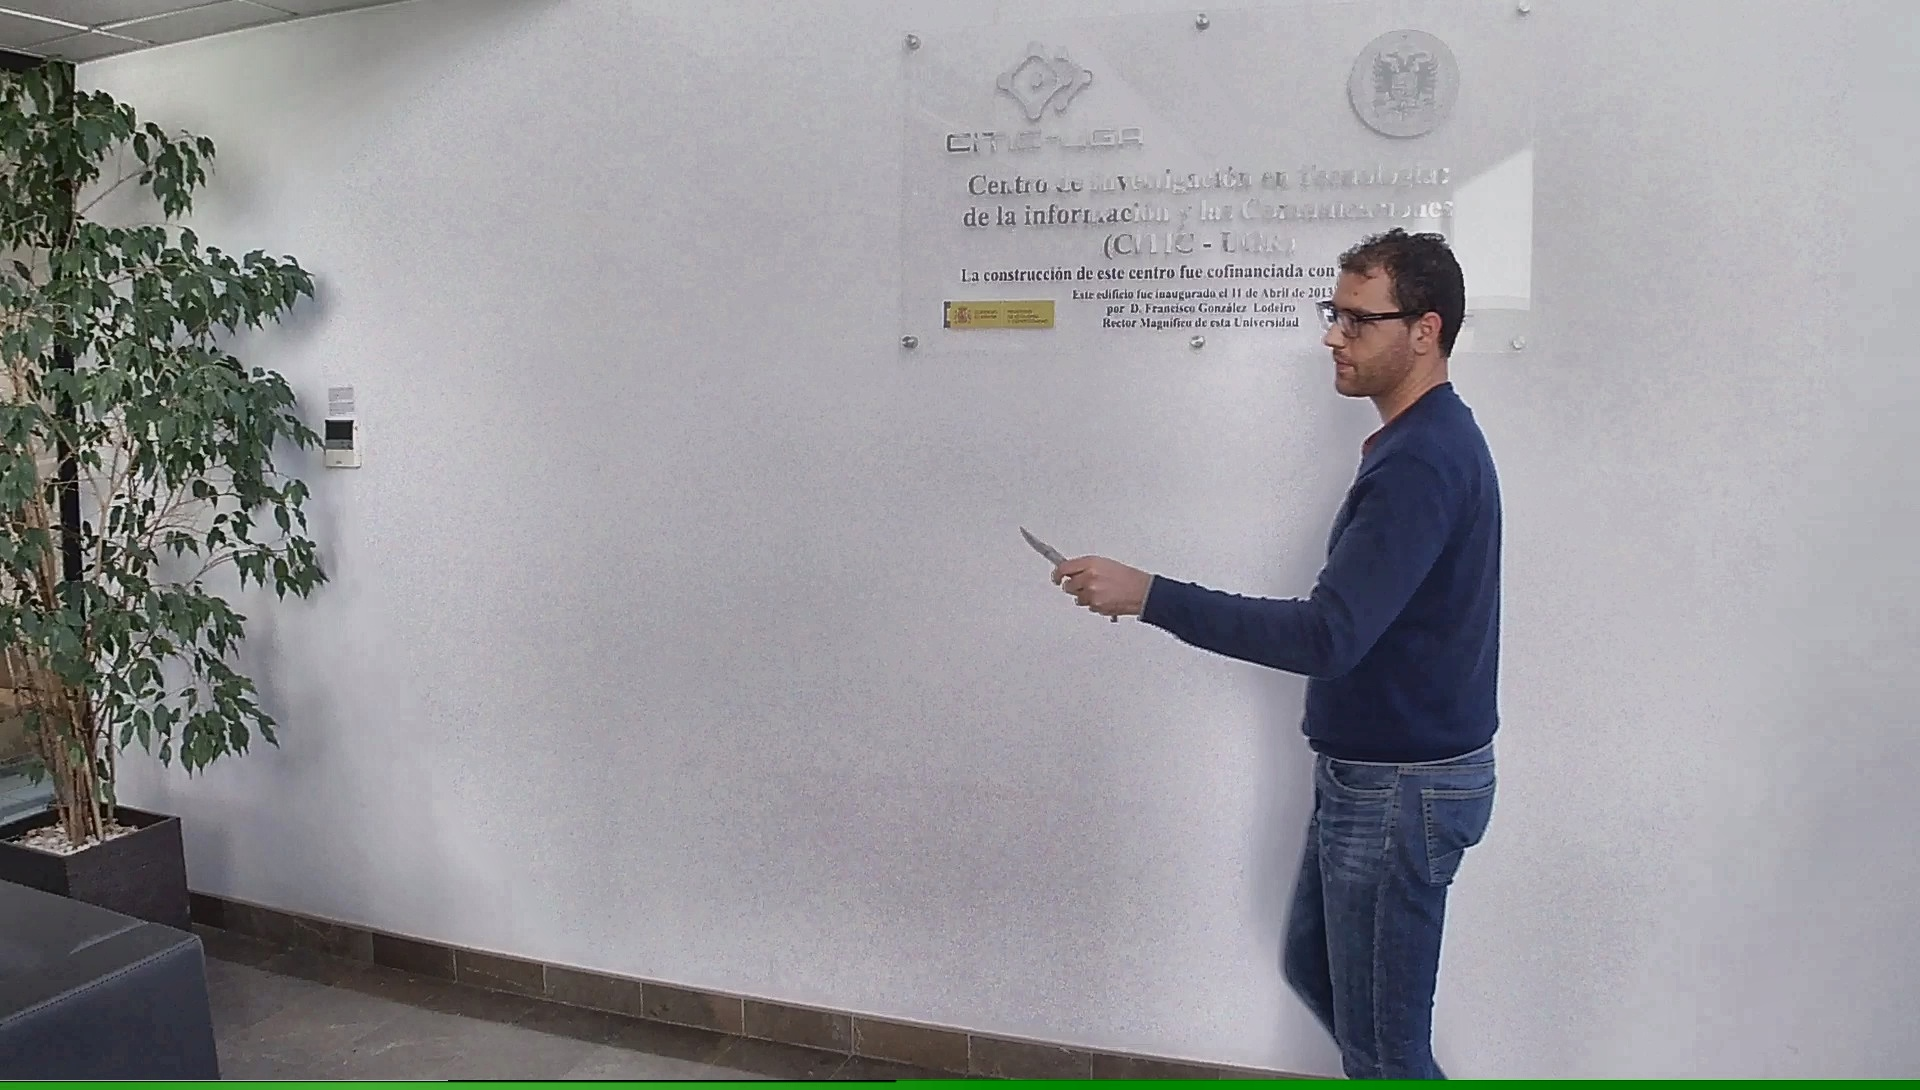knife: (1010, 515, 1127, 626)
